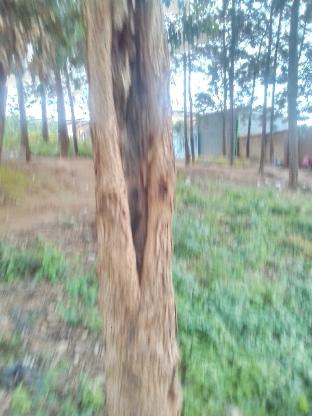tree: (79, 0, 188, 416)
